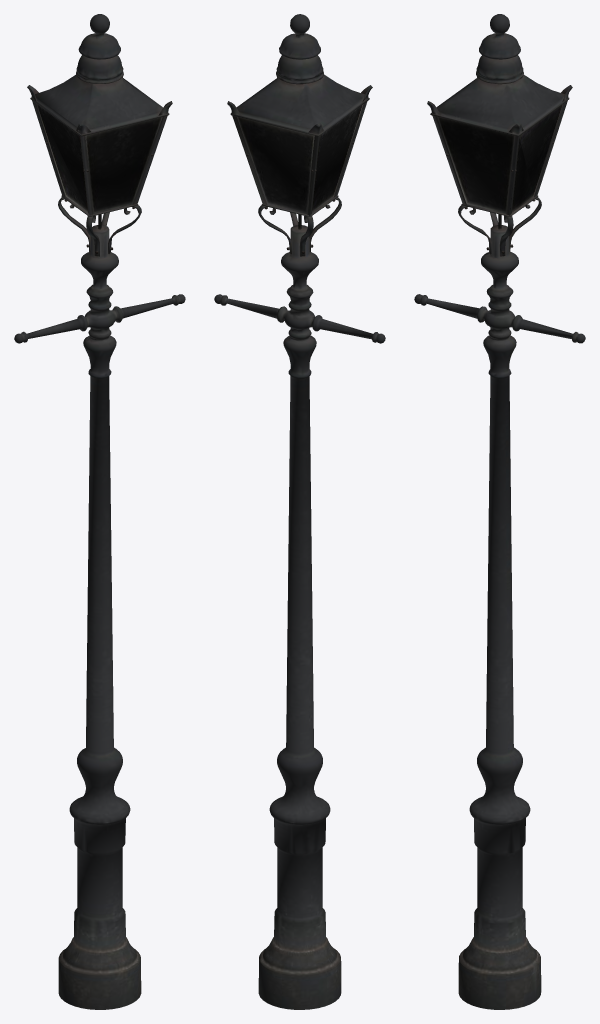
Rendered from street_lamp_01.glb.
The picture shows the model from 3 angles, left to right: view 1: azimuth 30°, elevation 25°; view 2: azimuth 150°, elevation 25°; view 3: azimuth 330°, elevation 25°; orthographic projection.
Size of the model in its own units: 0.7034 by 3.87 by 0.3862.
2 materials, 2 textured.
